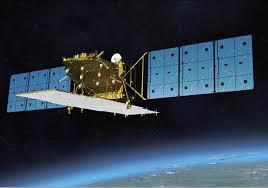antenna: (110, 52, 123, 66)
body: (60, 48, 136, 115)
solar: (145, 32, 256, 102), (5, 63, 73, 114)
